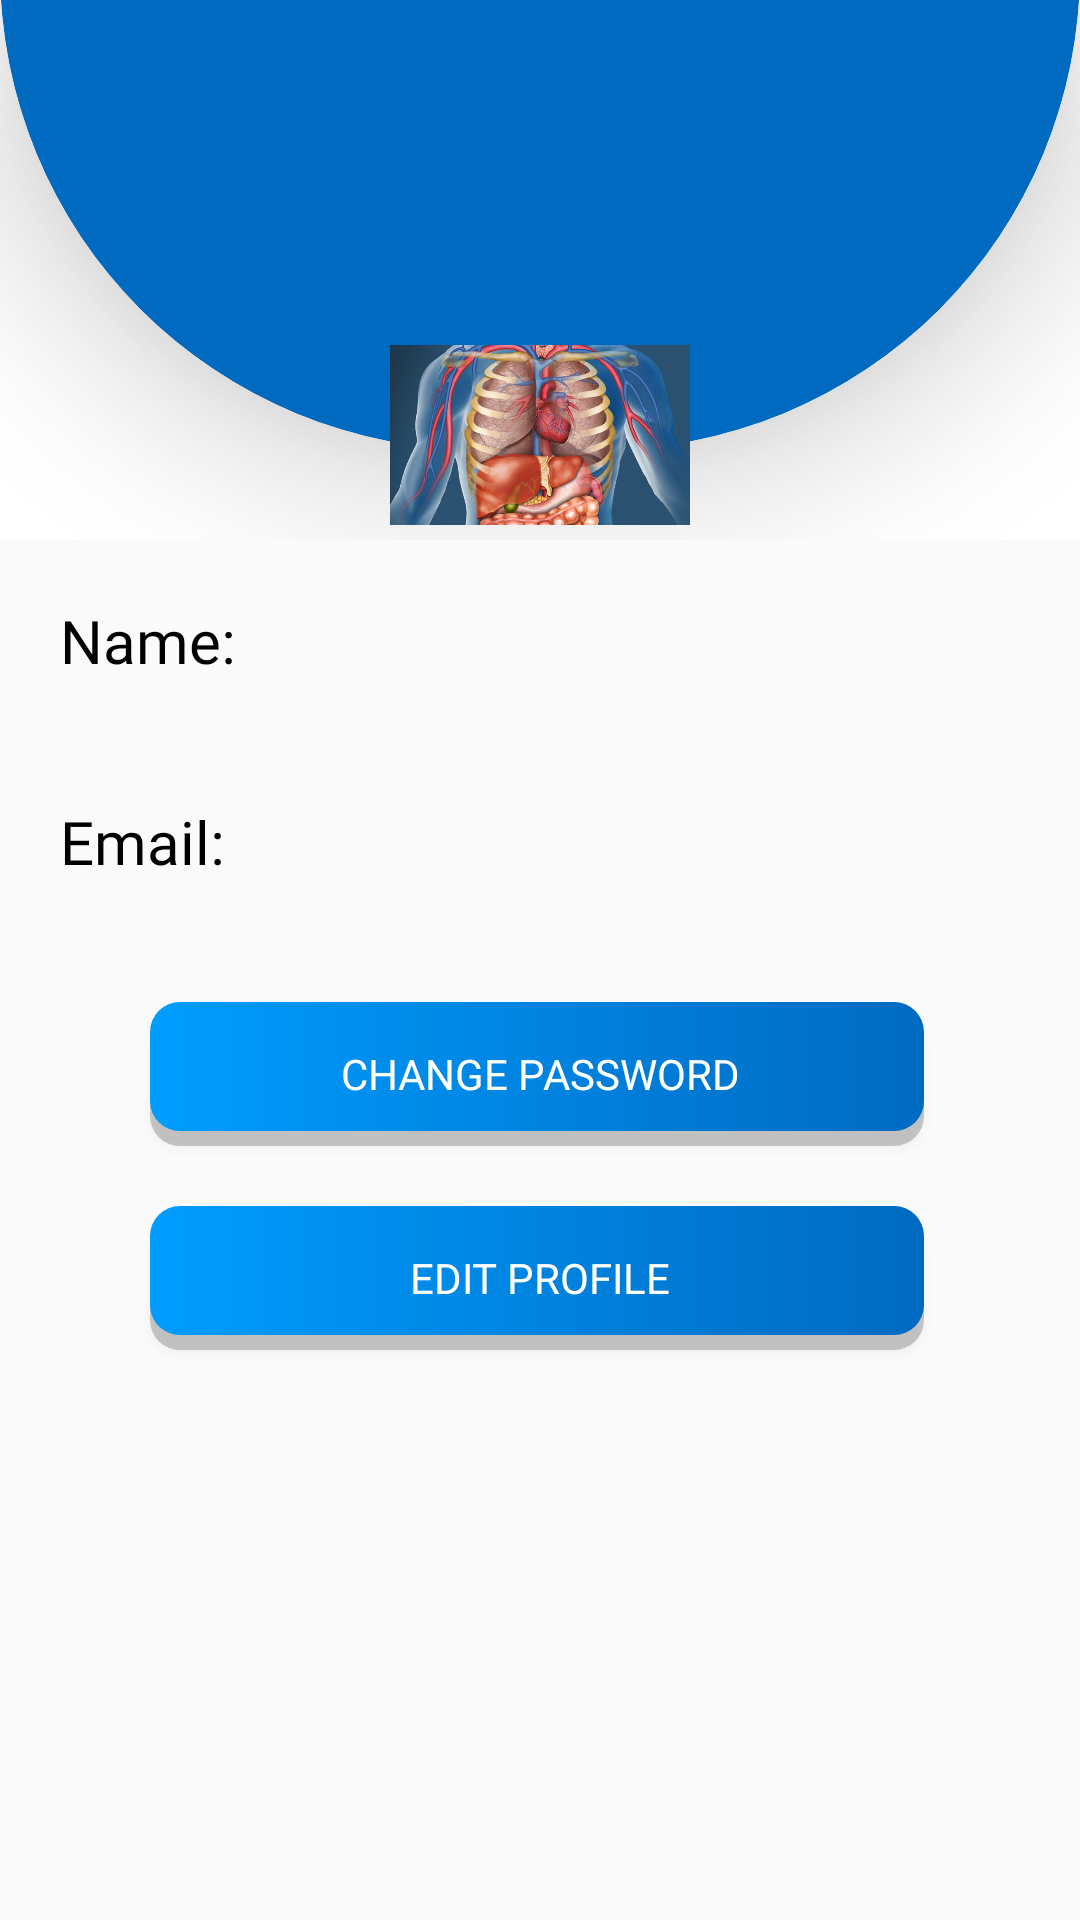

Icons on this 1080x1920 Android screen, each with the point to tap as (x=x, y=y):
medical: (x=540, y=435)
